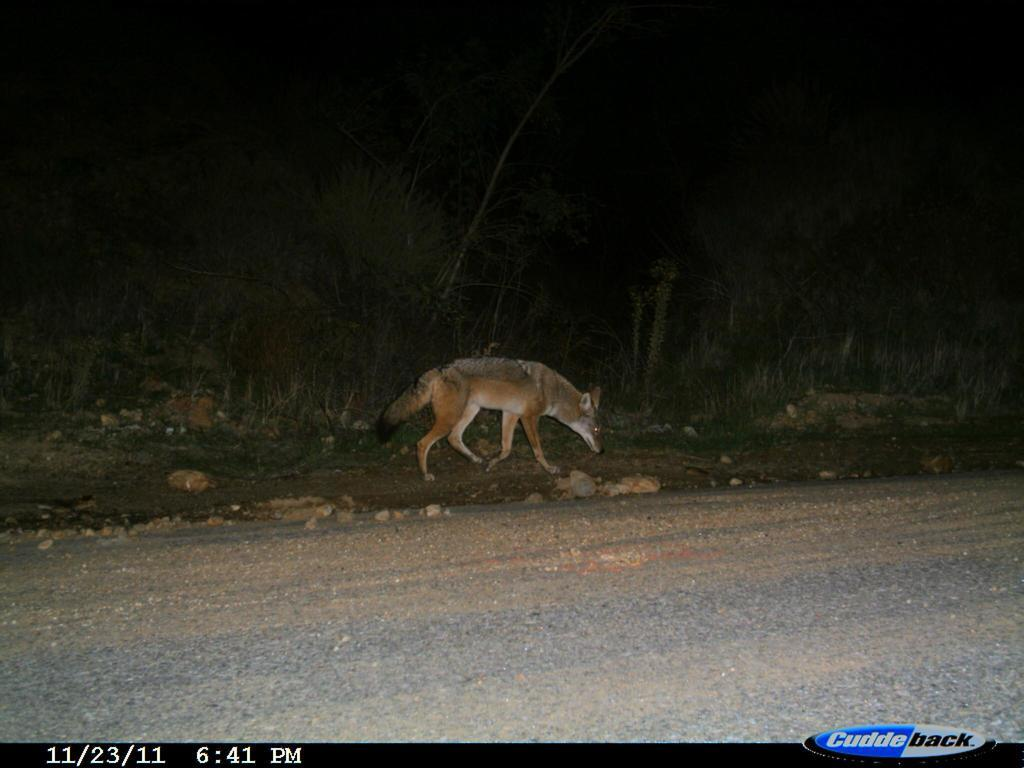coyote: (373, 346, 611, 510)
